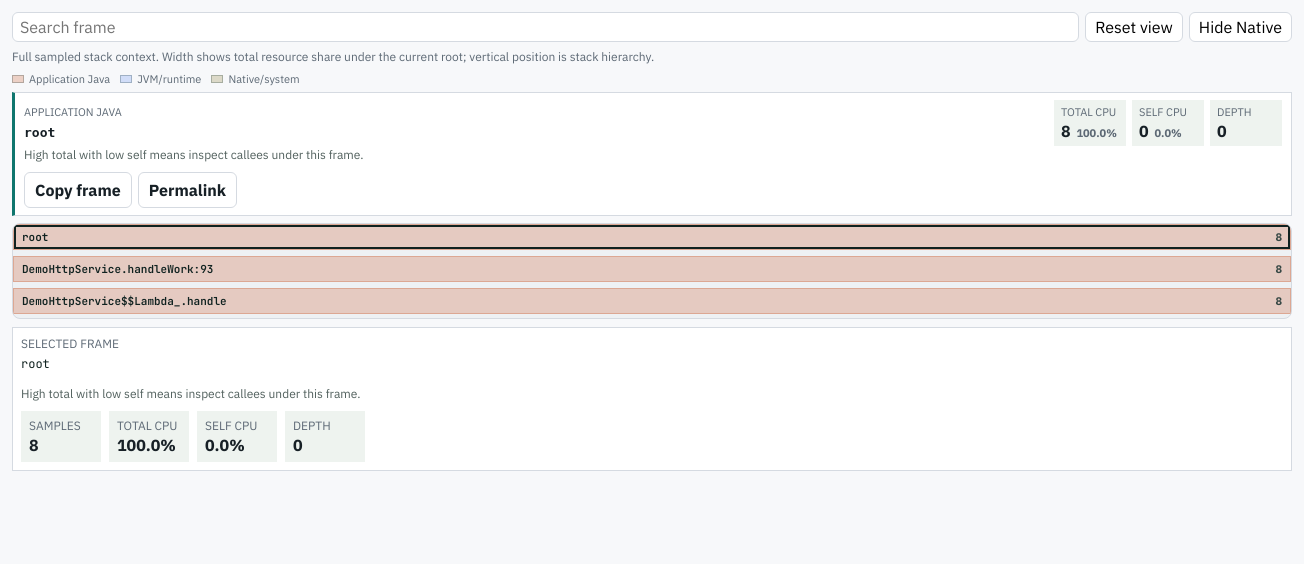
Test case: returns to the previous zoom level with Back
Expected: the button "Back" is not shown
What coordinates should you click on to do the following:
click the button "DemoHttpService.handleWork:93 8"
I would click on:
 (118, 269)
Its box is top-left (13, 256), bottom-right (1291, 282).
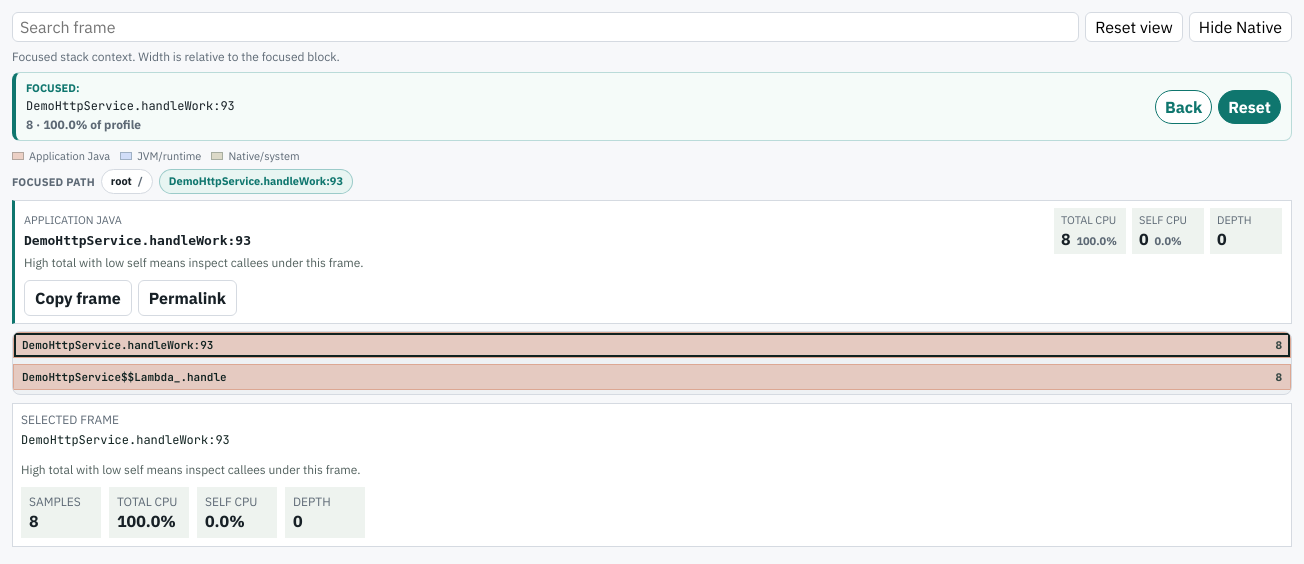
Result: the button "Back" is enabled
What coordinates should you click on to do the following:
click the button "Back"
I would click on:
 (1184, 107)
Its box is top-left (1155, 90), bottom-right (1212, 124).
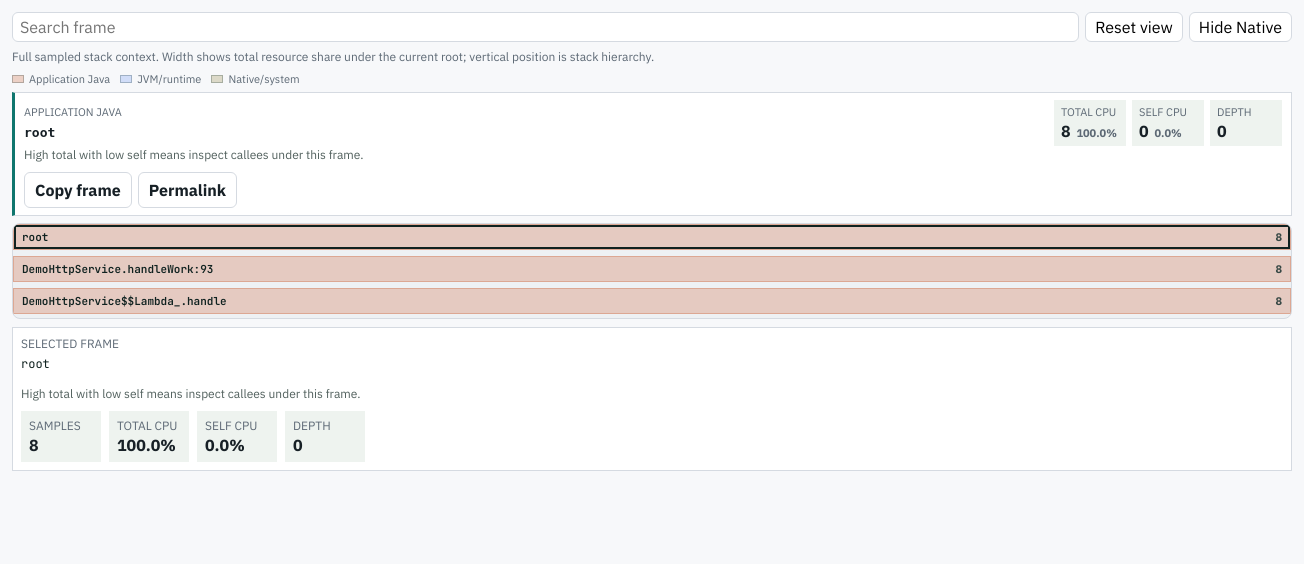
Result: the button with aria-label "root. Application Java. Total CPU 8" is shown at top-left (13, 224), bottom-right (1291, 250)
Result: the button "Back" is gone
